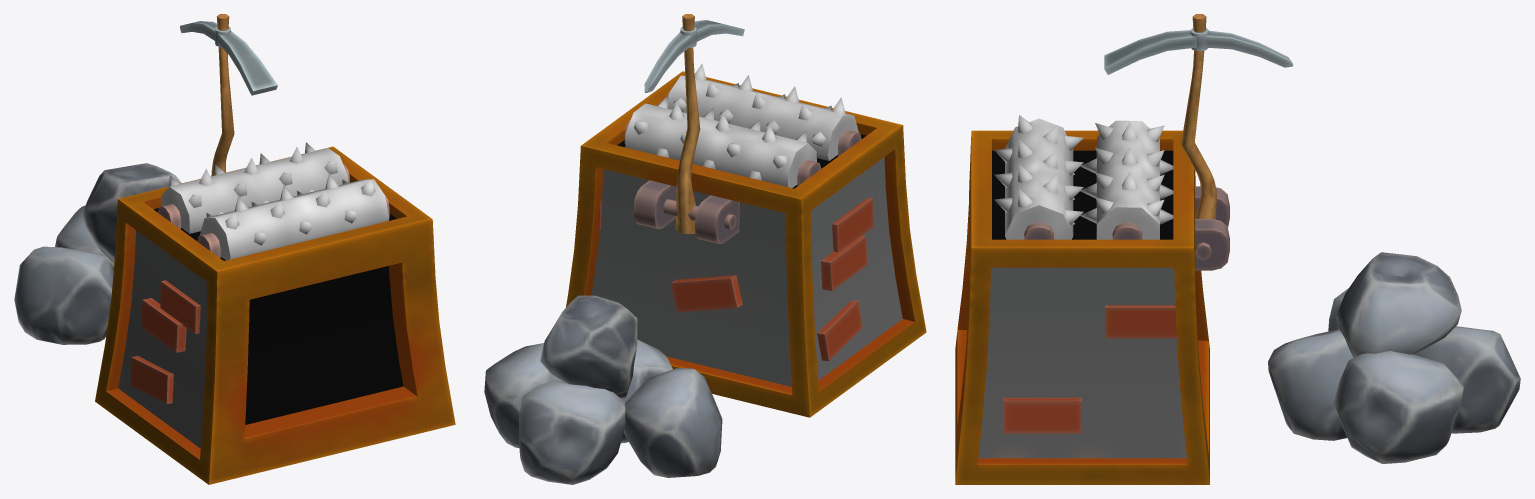
File: mine.fbx
3 views of the same model, side by side, from view 1: azimuth 30°, elevation 25°; view 2: azimuth 150°, elevation 25°; view 3: azimuth 270°, elevation 25° (orthographic). The views are drawn at different scales.
Parts seen in each view (by area): view 1: rockLP.001_Baked, rockLP.004_Baked, Cylinder.004_Baked, Cylinder.003_Baked, Plane.002_Baked; view 2: rockLP.001_Baked, rockLP.004_Baked, Cylinder.003_Baked, Cylinder.004_Baked, Plane.002_Baked; view 3: rockLP.001_Baked, rockLP.004_Baked, Cylinder.003_Baked, Cylinder.004_Baked, Plane.002_Baked.
Part boxes in pixels (<box>): rockLP.001_Baked: <box>95,146,455,484</box>; rockLP.004_Baked: <box>14,163,181,344</box>; Cylinder.004_Baked: <box>200,173,389,260</box>; Cylinder.003_Baked: <box>161,142,348,233</box>; Plane.002_Baked: <box>180,14,277,175</box>; rockLP.001_Baked: <box>566,71,926,417</box>; rockLP.004_Baked: <box>484,295,722,484</box>; Cylinder.003_Baked: <box>625,96,816,187</box>; Cylinder.004_Baked: <box>667,63,858,160</box>; Plane.002_Baked: <box>644,14,744,233</box>; rockLP.001_Baked: <box>955,130,1229,484</box>; rockLP.004_Baked: <box>1268,252,1520,463</box>; Cylinder.003_Baked: <box>1080,120,1173,239</box>; Cylinder.004_Baked: <box>994,115,1083,239</box>; Plane.002_Baked: <box>1104,14,1293,219</box>.
Bounding box in the file's own units: 96 × 134 × 170.
1 material, 1 textured.
